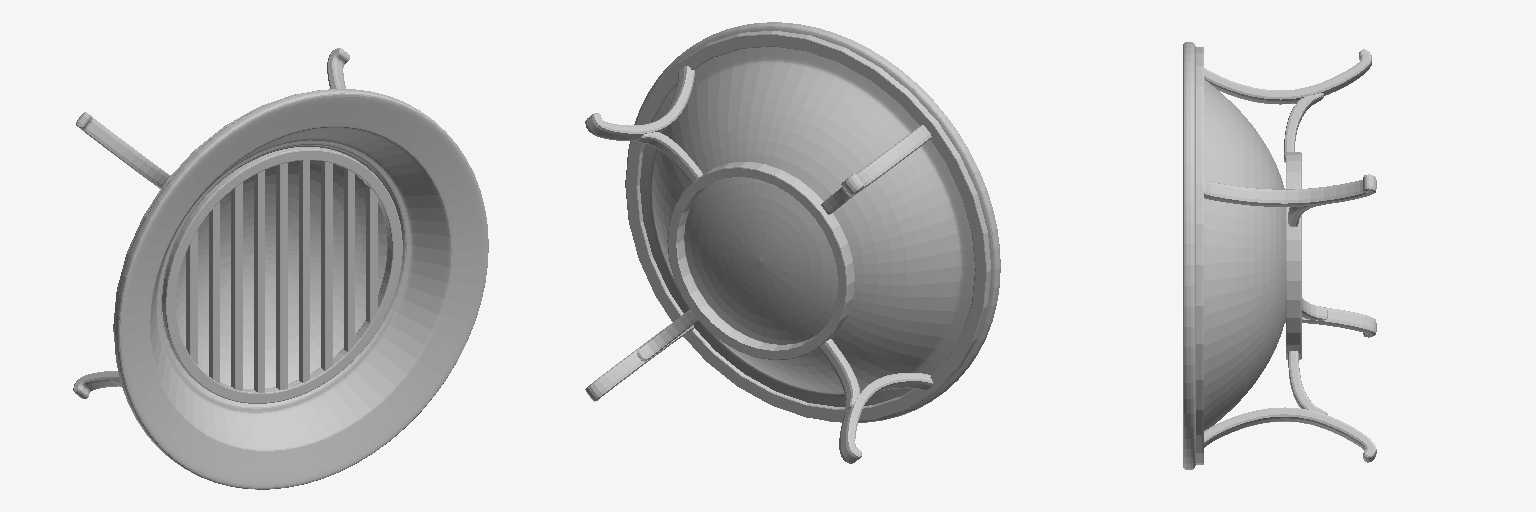
File: 20841_Copper_Fire_Pit_v1.obj
3 renders of one model, left to right at view 1: azimuth 30°, elevation 25°; view 2: azimuth 150°, elevation 25°; view 3: azimuth 270°, elevation 25°, orthographic.
Parts seen in each view (by area): view 1: 20841_Copper_Fire_Pit_v1; view 2: 20841_Copper_Fire_Pit_v1; view 3: 20841_Copper_Fire_Pit_v1.
Part boxes in pixels (left/top/right/bottom): 20841_Copper_Fire_Pit_v1: left=73, top=48, right=488, bottom=489; 20841_Copper_Fire_Pit_v1: left=585, top=22, right=1000, bottom=463; 20841_Copper_Fire_Pit_v1: left=1183, top=42, right=1376, bottom=469.
Size of the model in its own units: 7.77 by 7.77 by 3.5.